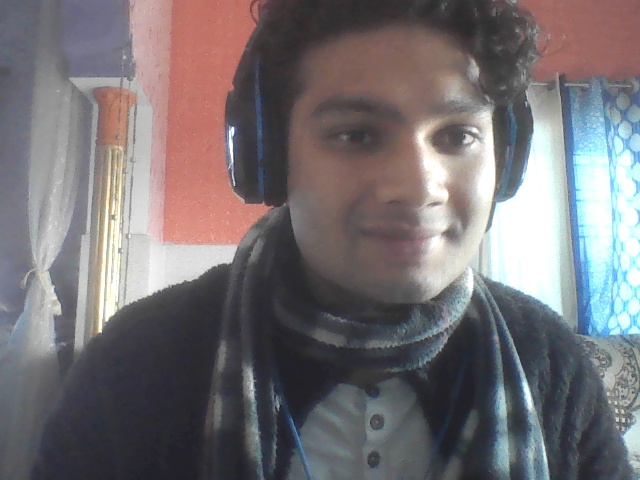real: (244, 0, 515, 384)
